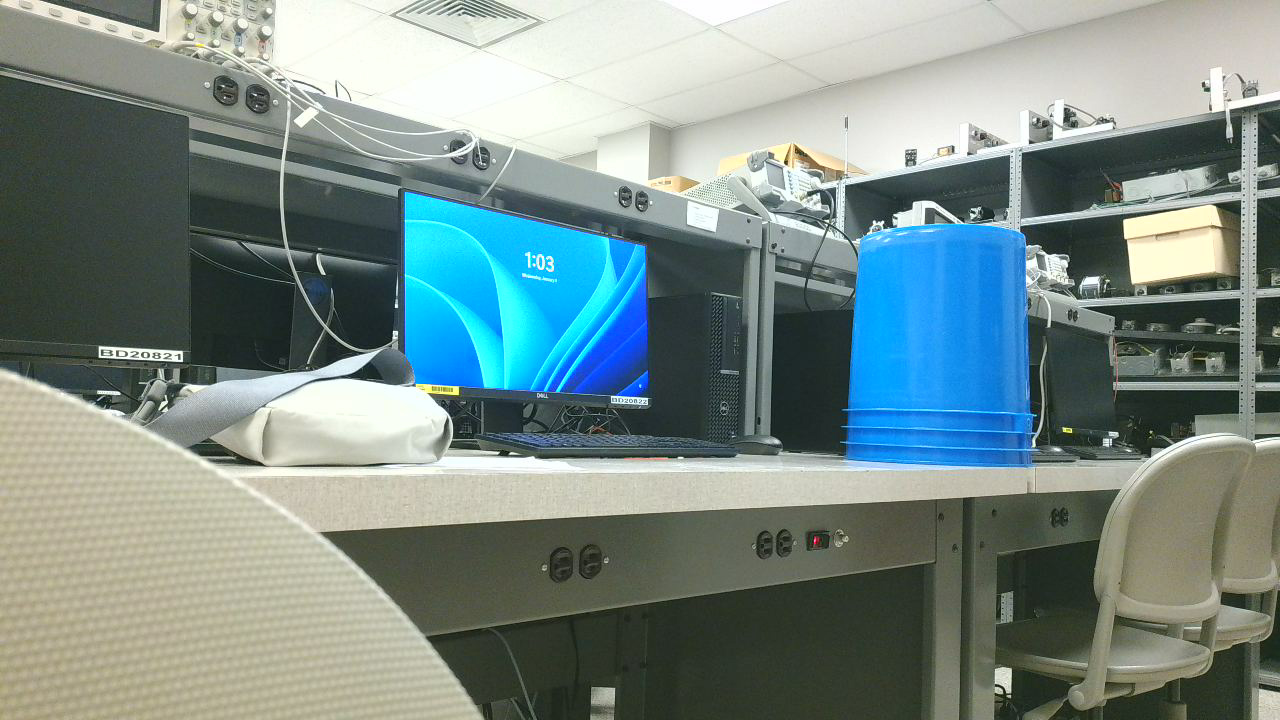blue_bucket: (840, 226, 1049, 477)
